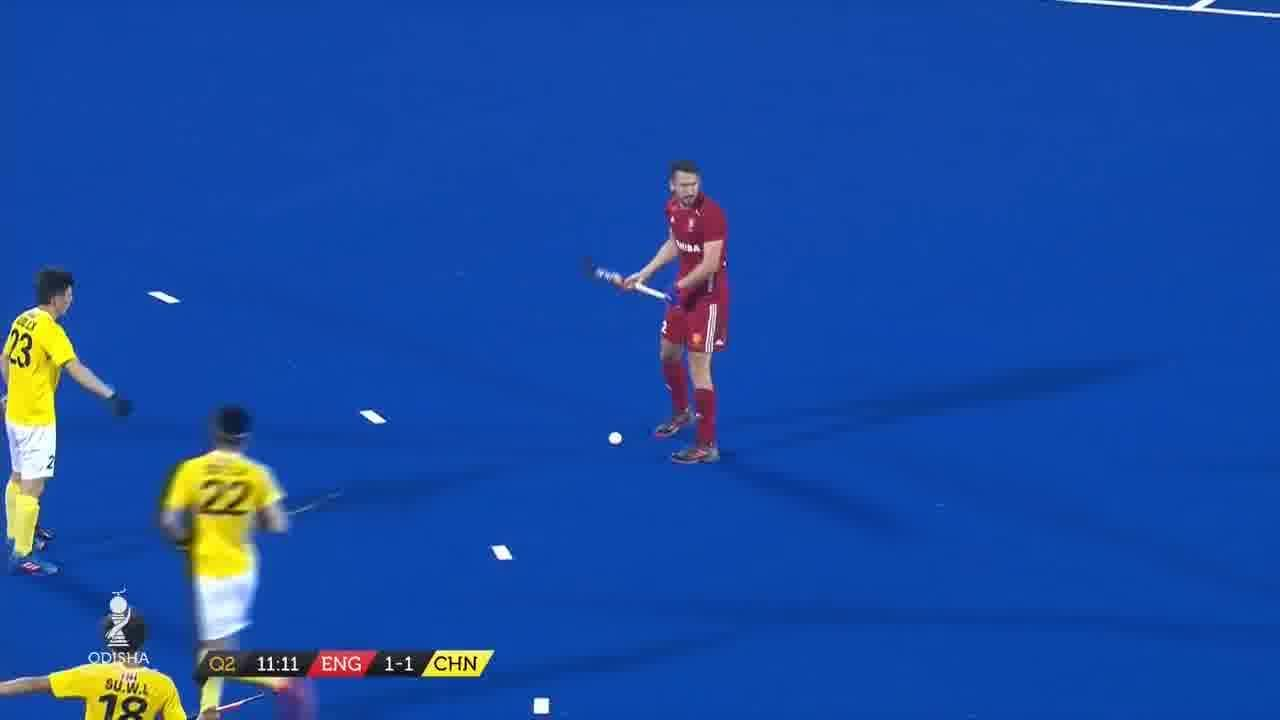ball: (602, 422, 634, 460)
